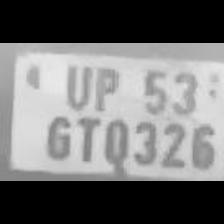0: (98, 114, 130, 166)
2: (154, 116, 186, 168)
3: (172, 62, 202, 114), (128, 114, 158, 166)
5: (135, 63, 169, 115)
6: (186, 117, 218, 171)
G: (40, 111, 74, 163)
P: (89, 62, 123, 114)
T: (72, 113, 100, 165)
U: (60, 60, 92, 110)
